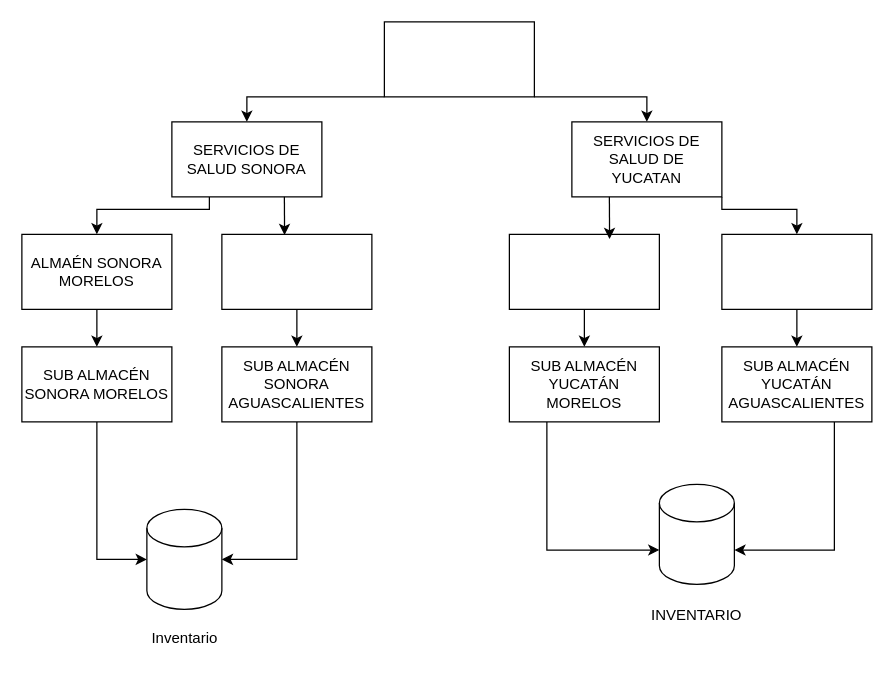
Some shapes in this 894 by 679 pixel diagram are drawn without their labels. Here are the shapes that lost their labels. From the top down, the box of each, then its label:
(383, 21, 534, 97): MEDIKAMENTA
(221, 233, 372, 309): ALMACÉN SONORA AGUASCALIENTES
(508, 233, 659, 309): ALMACEN YUCATÁN MORELOS
(721, 233, 872, 309): ALMACÉN YUCATÁN AGUASCALIENTES
